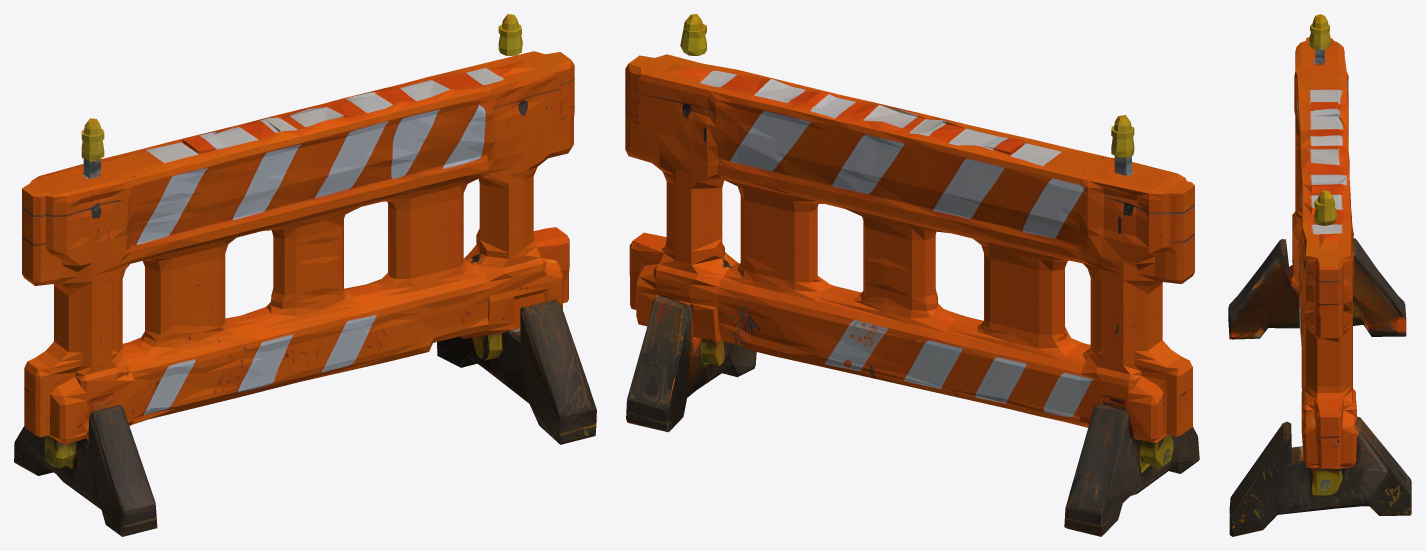
File: barrier_D.glb
3 views of the same model, side by side, from view 1: azimuth 30°, elevation 25°; view 2: azimuth 150°, elevation 25°; view 3: azimuth 270°, elevation 25° (orthographic). The views are drawn at different scales.
Visible parts, largest first — view 1: barrier_C; view 2: barrier_C; view 3: barrier_C.
Boxes of the visible parts, left/top/right/bottom form: barrier_C: left=14, top=14, right=596, bottom=536; barrier_C: left=625, top=14, right=1199, bottom=536; barrier_C: left=1228, top=14, right=1411, bottom=536.
Size of the model in its own units: 2.83 by 1.92 by 0.9586.
Materials: 1 (1 with a texture image).
